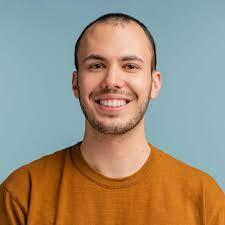person: (68, 9, 166, 143)
